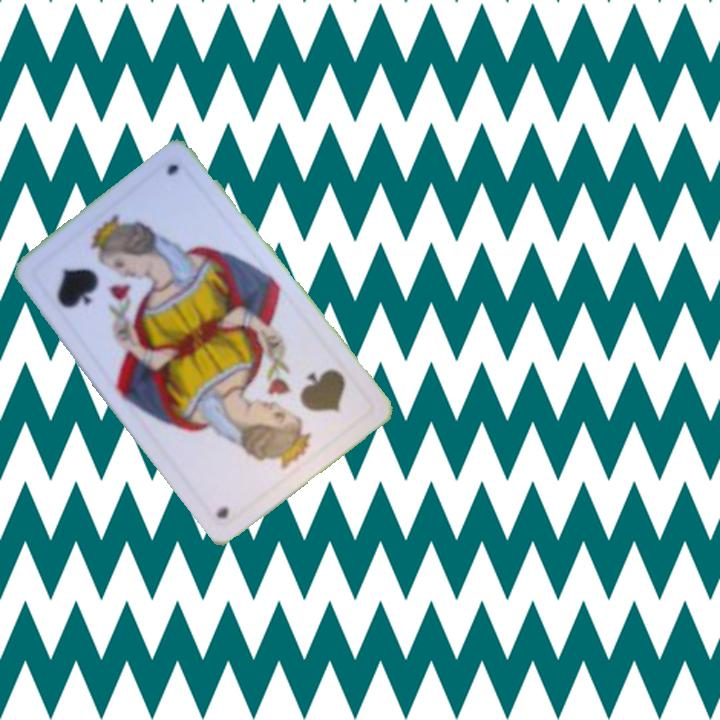s_q.png: (27, 213, 156, 340), (246, 342, 375, 469)
